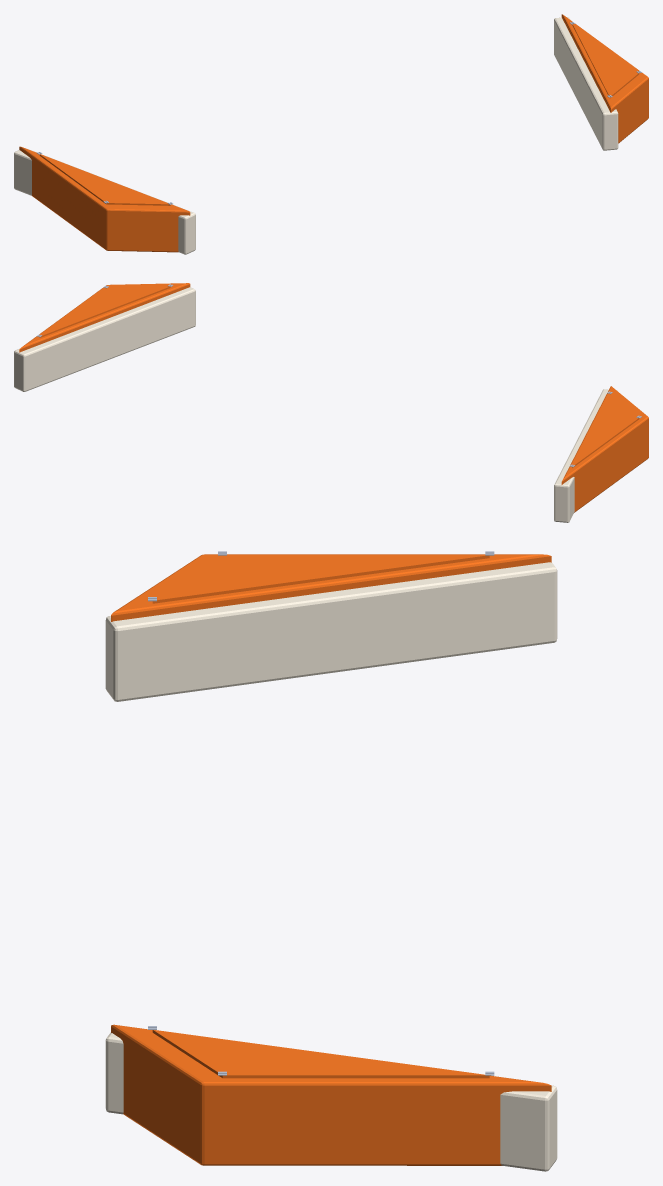
Rendered from Rodent_Slingshots.glb.
3 renders of one model, top to bottom at view 1: azimuth 30°, elevation 25°; view 2: azimuth 150°, elevation 25°; view 3: azimuth 270°, elevation 25°, orthographic. The views are drawn at different scales.
Visible parts, largest first — view 1: SlingBody1, SlingBody2, Sling2, Sling1; view 2: Sling2, SlingBody1, SlingBody2, Sling1; view 3: SlingBody2, Sling1, SlingBody1, Sling2.
Part boxes in pixels (x1,y1,x2,y2): SlingBody1: [19, 146, 190, 252]; SlingBody2: [561, 14, 648, 143]; Sling2: [554, 17, 618, 150]; Sling1: [14, 148, 195, 254]; Sling2: [14, 287, 195, 391]; SlingBody1: [561, 386, 648, 512]; SlingBody2: [19, 283, 190, 352]; Sling1: [554, 389, 617, 522]; SlingBody2: [111, 1024, 551, 1165]; Sling1: [105, 562, 557, 701]; SlingBody1: [111, 554, 551, 621]; Sling2: [105, 1032, 557, 1171].
Size of the model in its own units: 0.3881 by 0.0297 by 0.1366.
